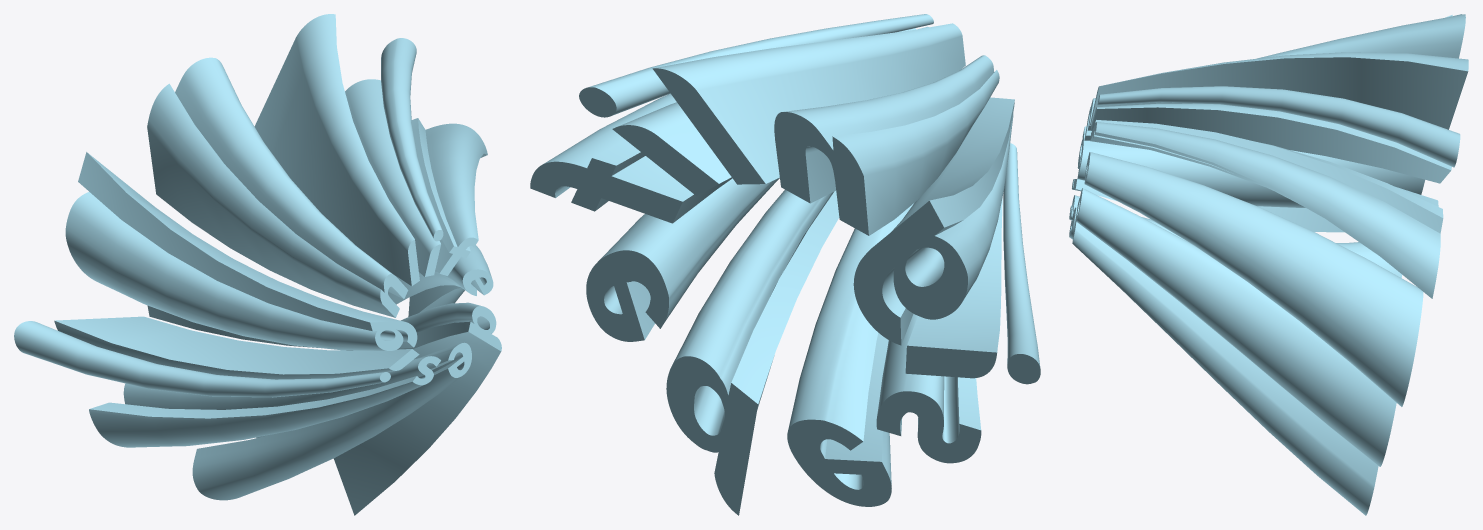
3 renders of one model, left to right at view 1: azimuth 30°, elevation 25°; view 2: azimuth 150°, elevation 25°; view 3: azimuth 270°, elevation 25°, orthographic. The views are drawn at different scales.
Visible parts, largest first — view 1: lifedesign; view 2: lifedesign; view 3: lifedesign.
Boxes of the visible parts, box(x1,y1,x2,y2) form: lifedesign: box(14, 14, 501, 515); lifedesign: box(530, 14, 1040, 515); lifedesign: box(1069, 14, 1468, 515).
Bounding box in the file's own units: 0.4049 × 0.3694 × 0.2893.
